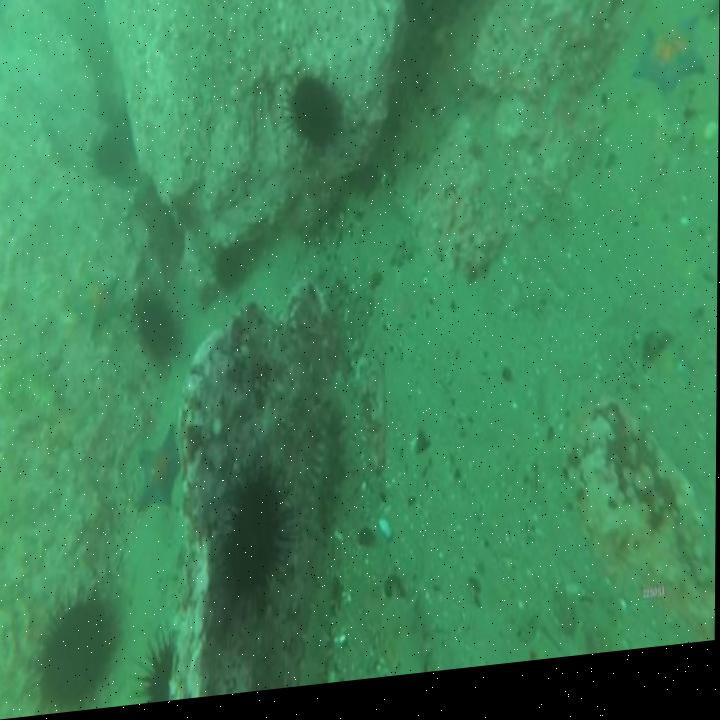echinus: (218, 457, 297, 629), (30, 577, 125, 717), (280, 69, 345, 169), (130, 275, 182, 376), (89, 112, 136, 186), (133, 633, 177, 708), (214, 247, 249, 298)
holothurian: (359, 589, 436, 688), (303, 410, 346, 556), (0, 351, 70, 434), (560, 27, 626, 111), (300, 569, 340, 693)
starfish: (633, 27, 709, 124), (133, 423, 184, 523), (70, 268, 126, 347)
